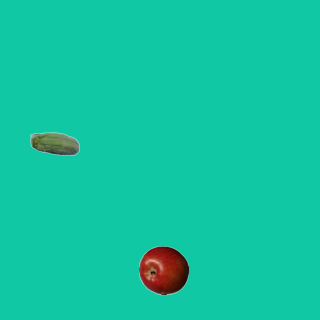Apple Braeburn: (138, 245, 188, 295)
Corn Husk: (29, 120, 79, 170)
